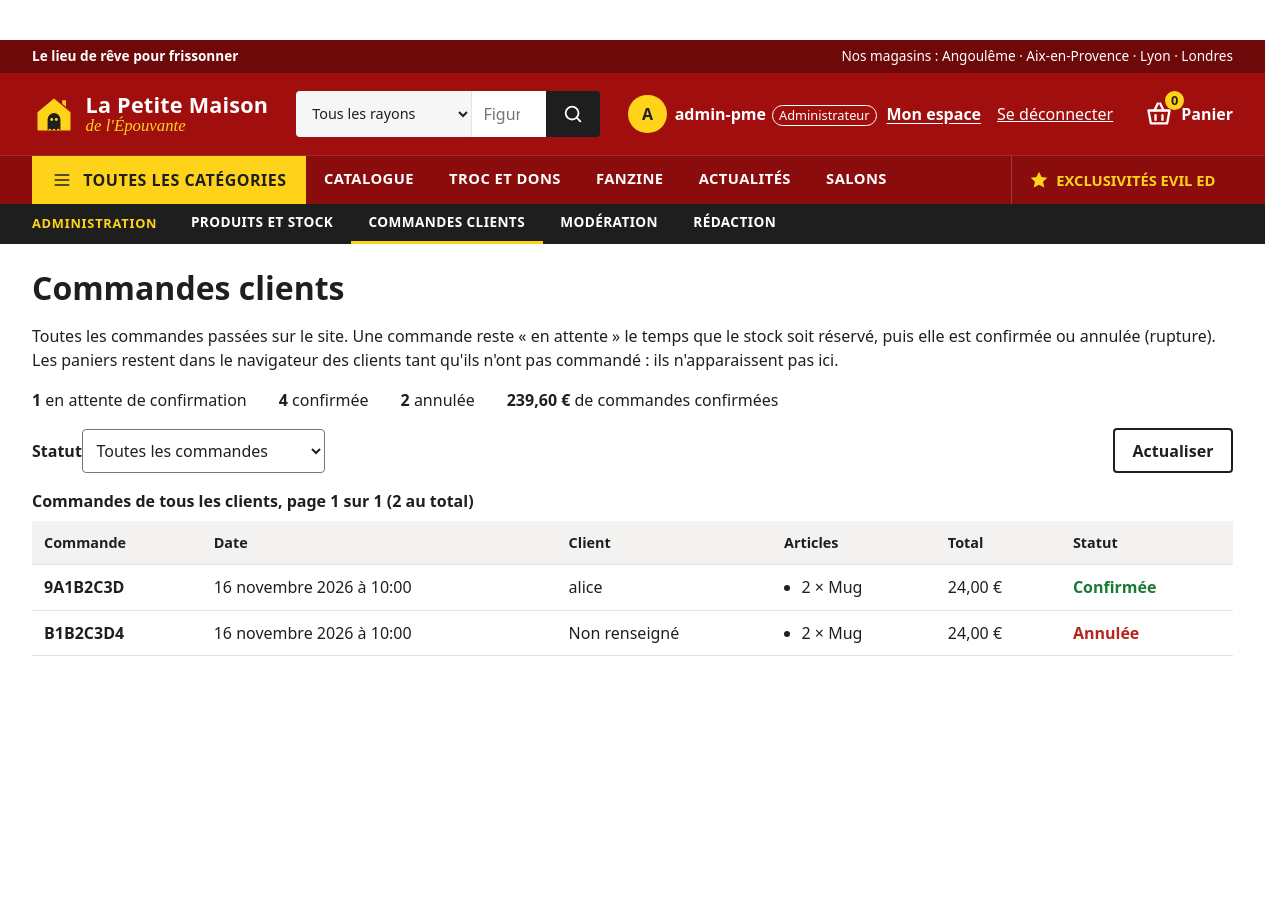
Commandes clients (US19) › liste les commandes de tous les clients, avec la synthèse, et filtre par statut
This screenshot has width=1280, height=900.
(page scrolled)
Check: the list named "Synthèse des commandes" shows "4 confirmée", box x1=32 y1=389 x2=778 y2=411
Check: the number of rows is 3, box x1=32 y1=521 x2=1233 y2=564; x1=32 y1=564 x2=1233 y2=610; x1=32 y1=610 x2=1233 y2=656
Select "Confirmée" in the dropdown labelled "Statut" at (203, 450), box x1=82 y1=428 x2=325 y2=472
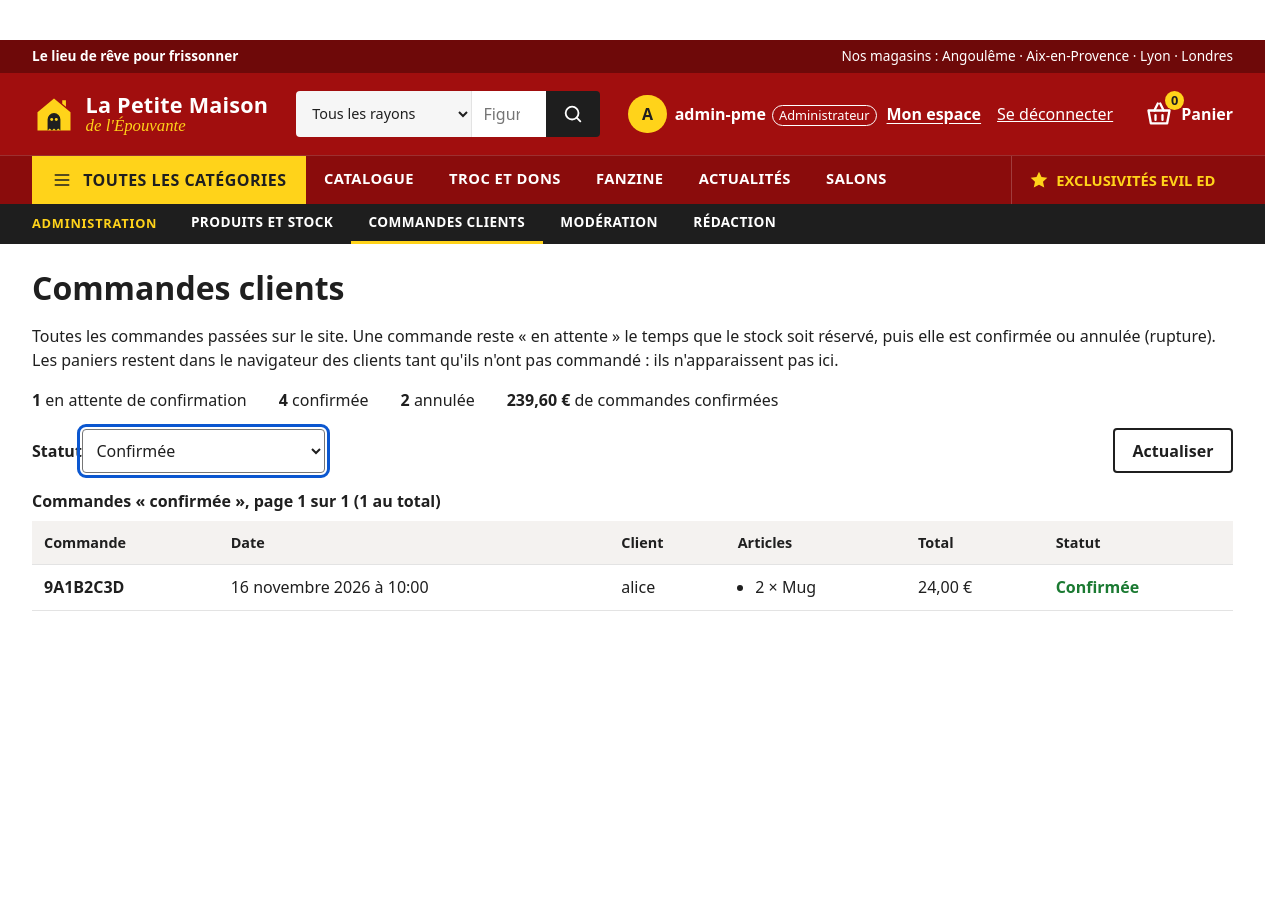
Check: the table "Commandes « confirmée »" is shown, box x1=32 y1=489 x2=1233 y2=610
